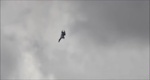maybay_muctieu: (57, 28, 67, 42)
